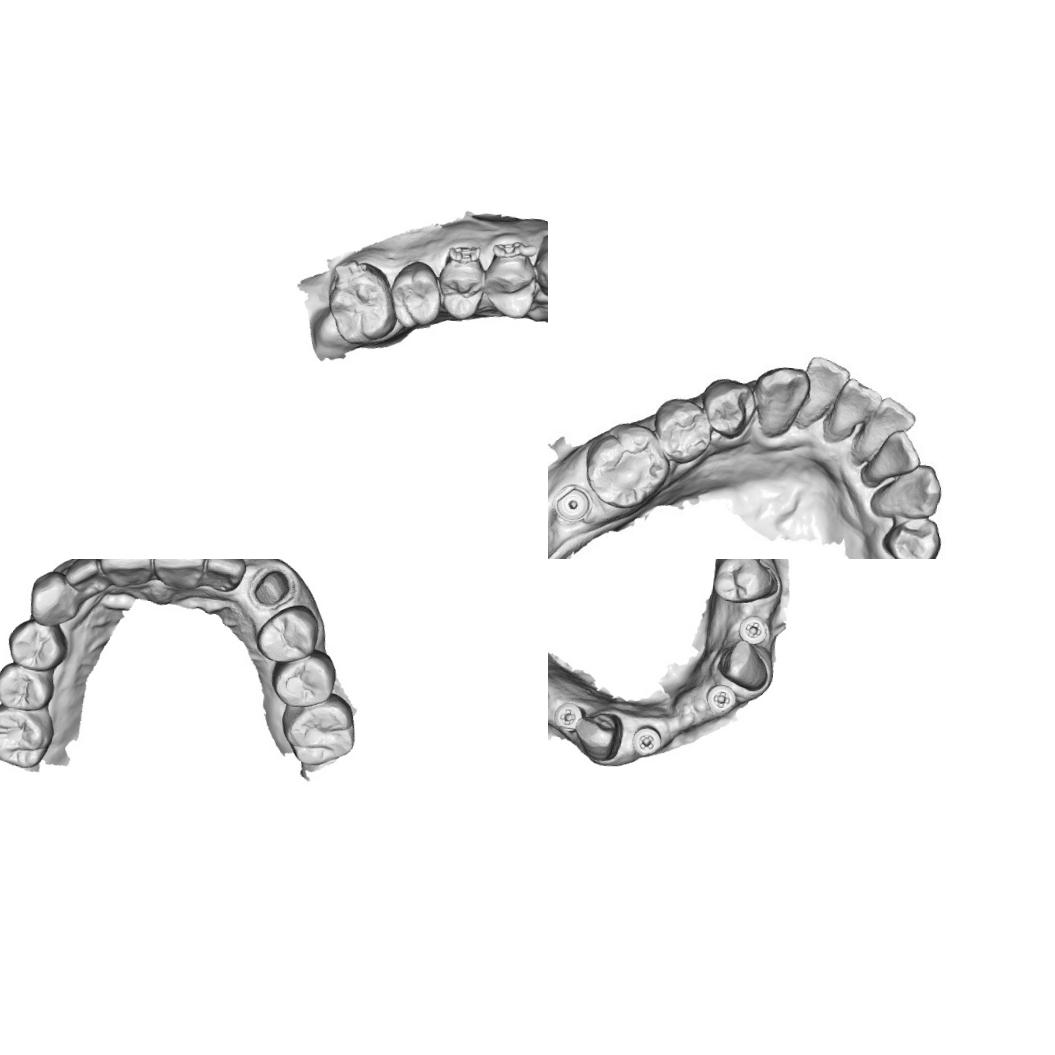canine: (746, 358, 812, 443), (868, 458, 945, 527), (26, 567, 84, 629), (714, 636, 772, 693), (572, 708, 624, 763), (531, 230, 548, 301)
crown: (245, 562, 298, 612)
implant: (552, 484, 592, 528)
implant_plus: (630, 724, 664, 759), (551, 700, 585, 734), (704, 683, 737, 716), (737, 614, 770, 646)
incisor: (854, 393, 918, 470), (798, 353, 854, 429), (861, 426, 924, 492), (828, 373, 882, 441), (96, 559, 158, 591), (150, 559, 207, 592), (62, 559, 110, 597), (202, 559, 249, 594)
molar: (577, 418, 676, 514), (322, 256, 404, 350), (276, 686, 361, 770), (268, 644, 340, 711), (386, 257, 447, 333), (0, 697, 57, 772)
premolar: (479, 239, 541, 325), (650, 392, 716, 468), (696, 370, 762, 442), (253, 600, 322, 667), (433, 246, 492, 322), (5, 615, 70, 674), (877, 511, 944, 559), (711, 559, 778, 607), (0, 659, 58, 714)
